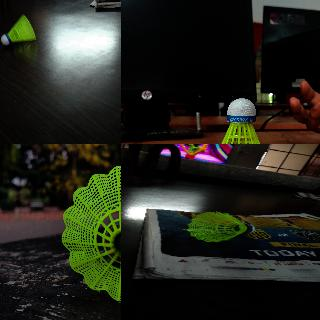shuttlecock: (60, 164, 120, 302), (204, 97, 275, 143), (187, 211, 254, 242), (1, 13, 36, 44)
